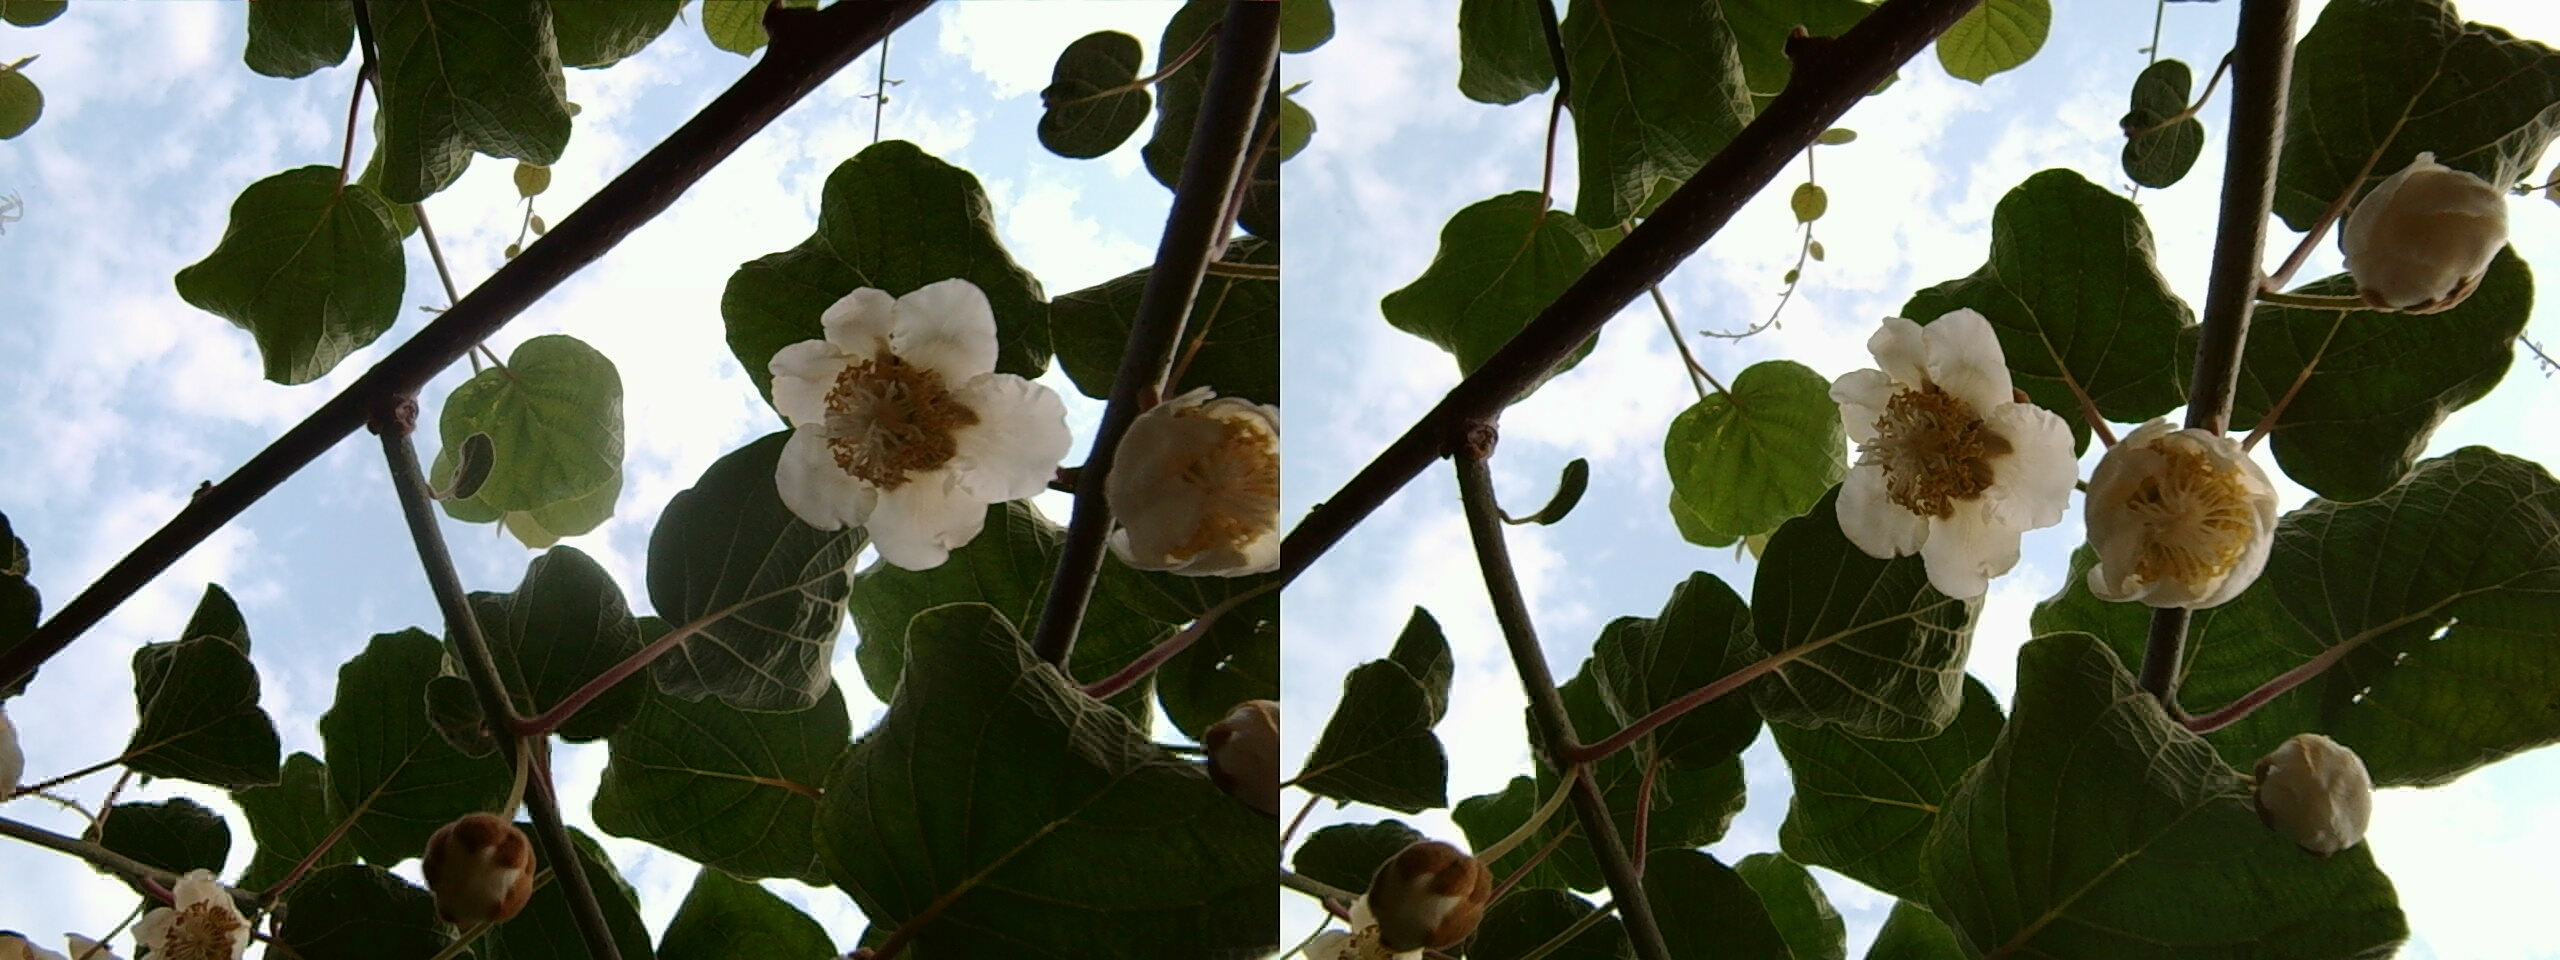flower: (759, 281, 1055, 563), (1820, 312, 2075, 591), (2072, 416, 2278, 620), (1110, 387, 1273, 571)
